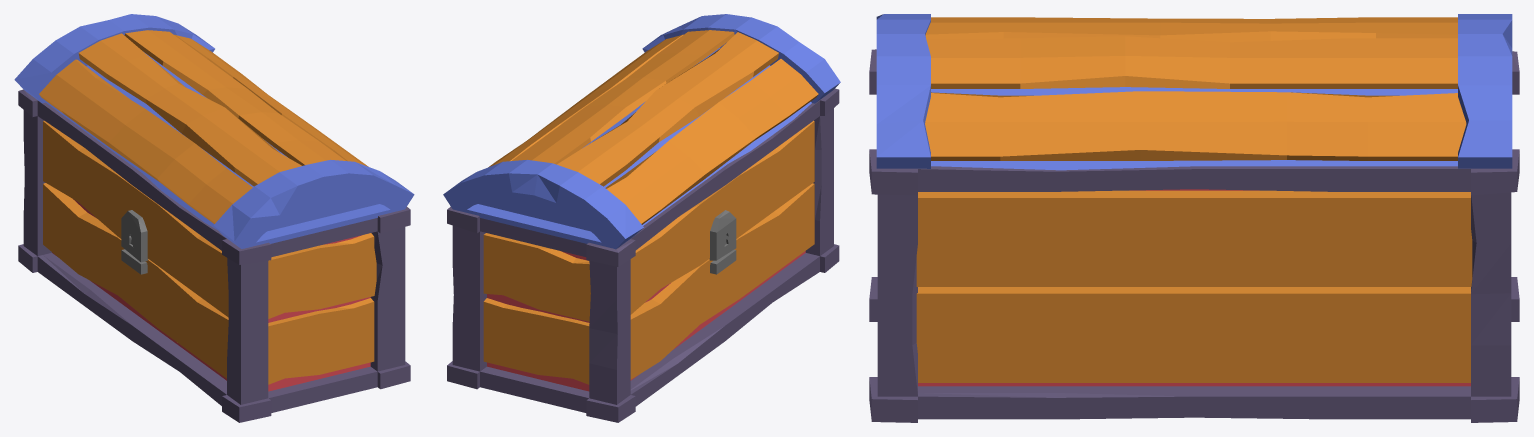
The model's file is chest_WC.fbx.
The picture shows the model from 3 angles, left to right: view 1: azimuth 30°, elevation 25°; view 2: azimuth 150°, elevation 25°; view 3: azimuth 270°, elevation 25°; orthographic projection. The views are drawn at different scales.
Parts seen in each view (by area): view 1: Cylinder.001; view 2: Cylinder.001; view 3: Cylinder.001.
Part boxes in pixels (left/top/right/bottom): Cylinder.001: left=14, top=14, right=414, bottom=422; Cylinder.001: left=443, top=14, right=840, bottom=422; Cylinder.001: left=869, top=14, right=1519, bottom=422.
Size of the model in its own units: 97.1 by 114 by 205.
